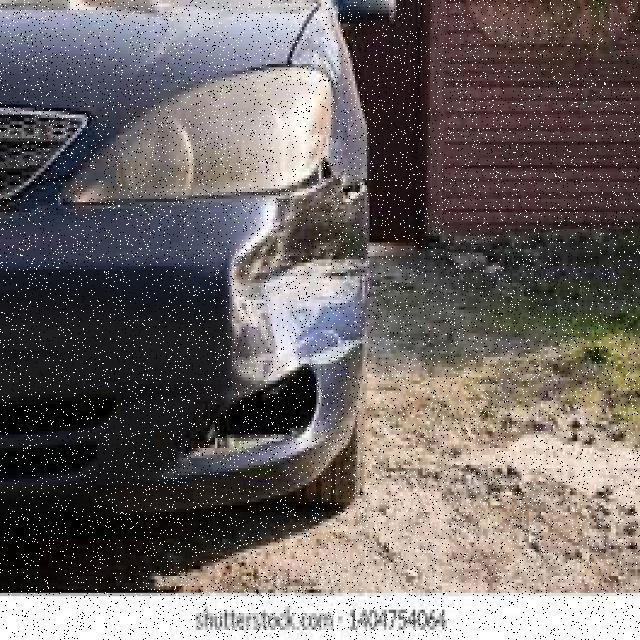front-bumper-dent: (1, 157, 376, 487)
